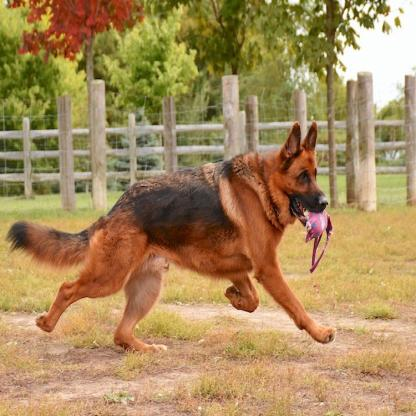dog: (13, 121, 344, 354)
